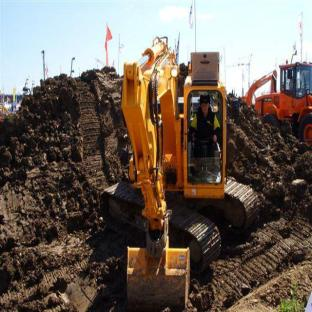ExcavationMachinery: (85, 40, 249, 292)
